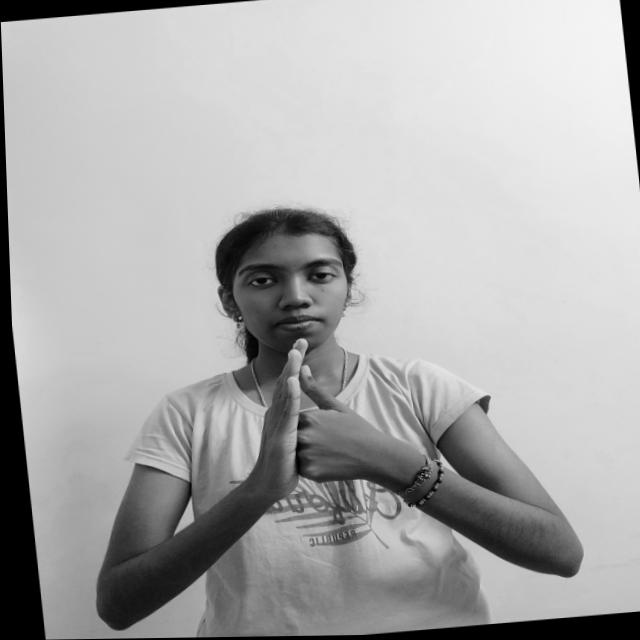Well Done: (223, 325, 404, 514)
